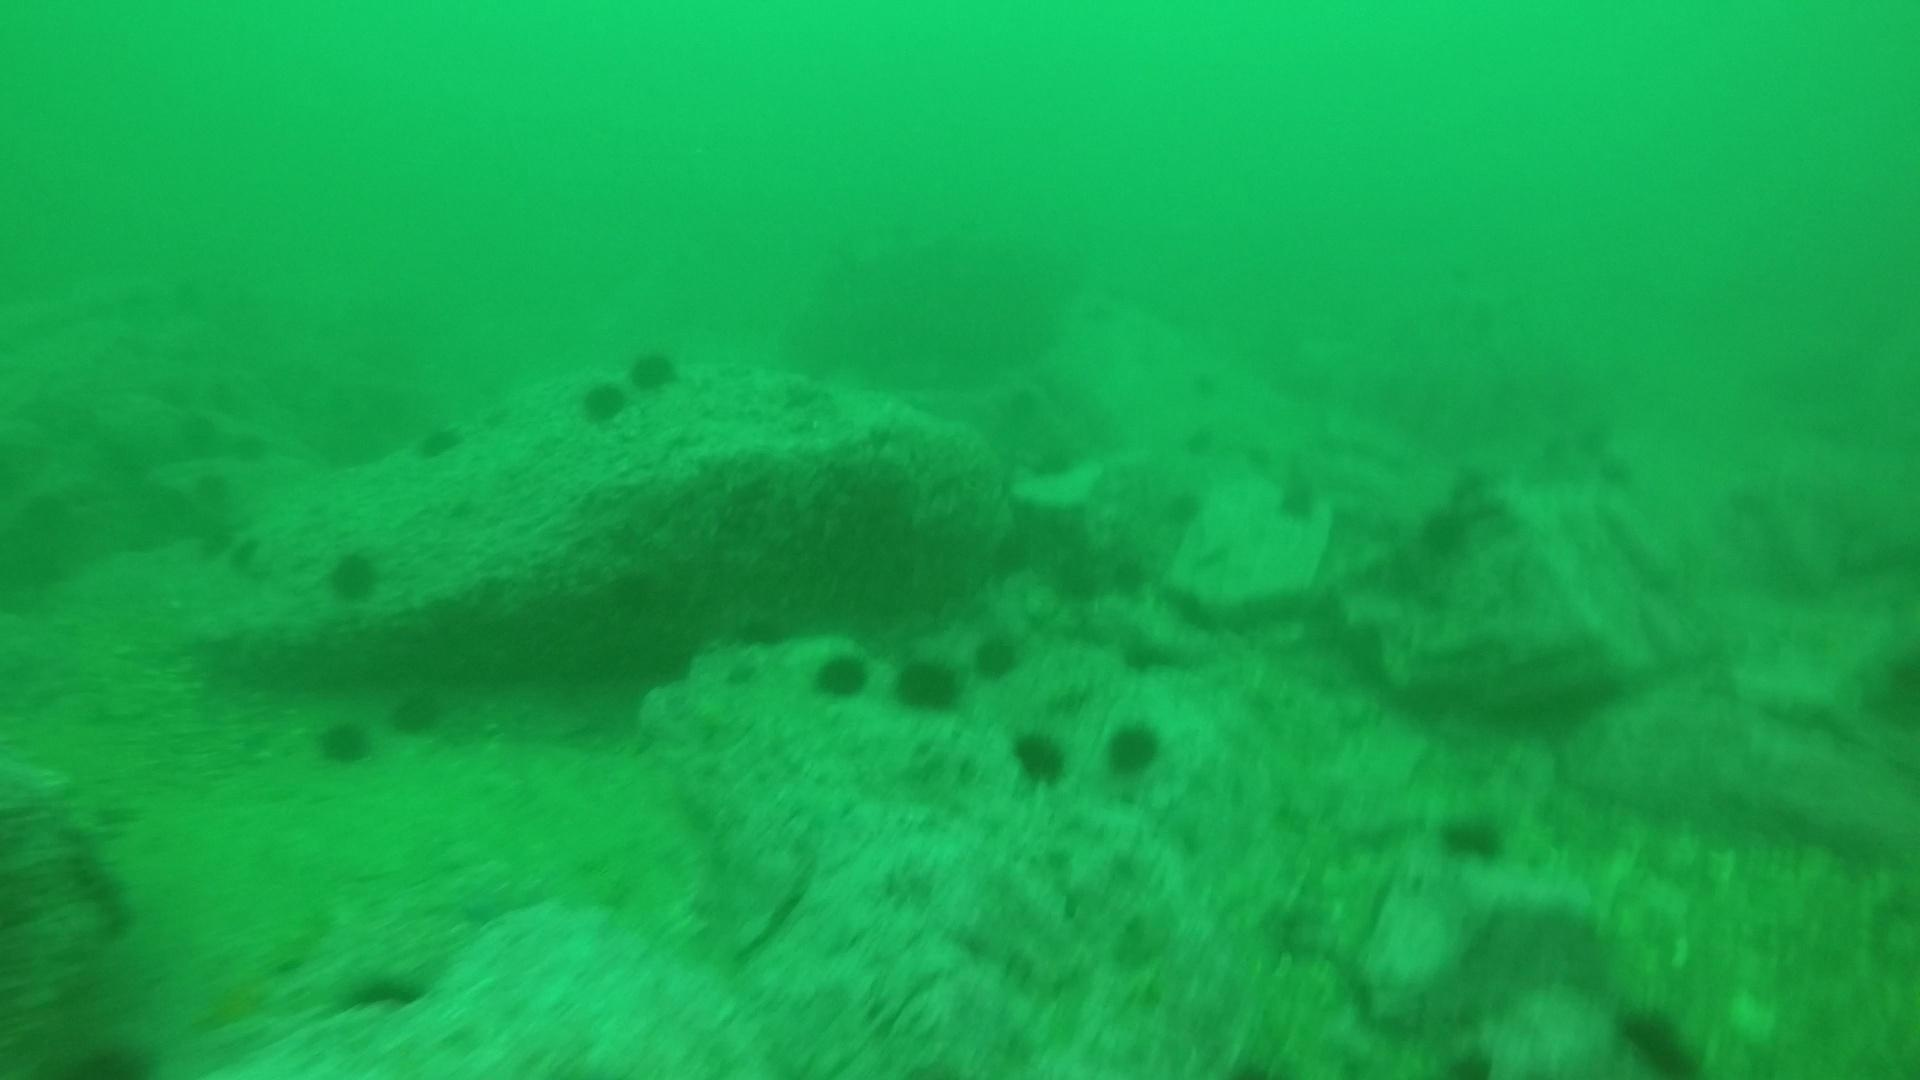echinus: (1610, 1000, 1702, 1077), (889, 650, 968, 719), (339, 960, 430, 1017), (1433, 804, 1511, 870), (1097, 713, 1168, 783), (1006, 724, 1073, 791), (384, 680, 454, 742), (320, 545, 388, 608), (309, 712, 378, 771), (731, 604, 798, 665), (806, 646, 874, 705), (605, 556, 673, 616), (968, 626, 1027, 684), (1108, 628, 1167, 686), (1104, 551, 1163, 609), (1055, 554, 1114, 612), (981, 527, 1040, 585), (1155, 485, 1215, 543), (1275, 469, 1335, 527), (1171, 352, 1230, 410), (1557, 407, 1617, 465), (1588, 436, 1647, 495), (1164, 411, 1222, 469), (1226, 427, 1284, 485), (1408, 497, 1466, 555), (622, 342, 683, 397), (575, 375, 632, 429), (179, 520, 235, 567), (222, 426, 277, 473), (174, 404, 229, 451), (195, 375, 251, 422), (411, 417, 465, 464), (224, 527, 280, 574), (185, 462, 239, 508)
